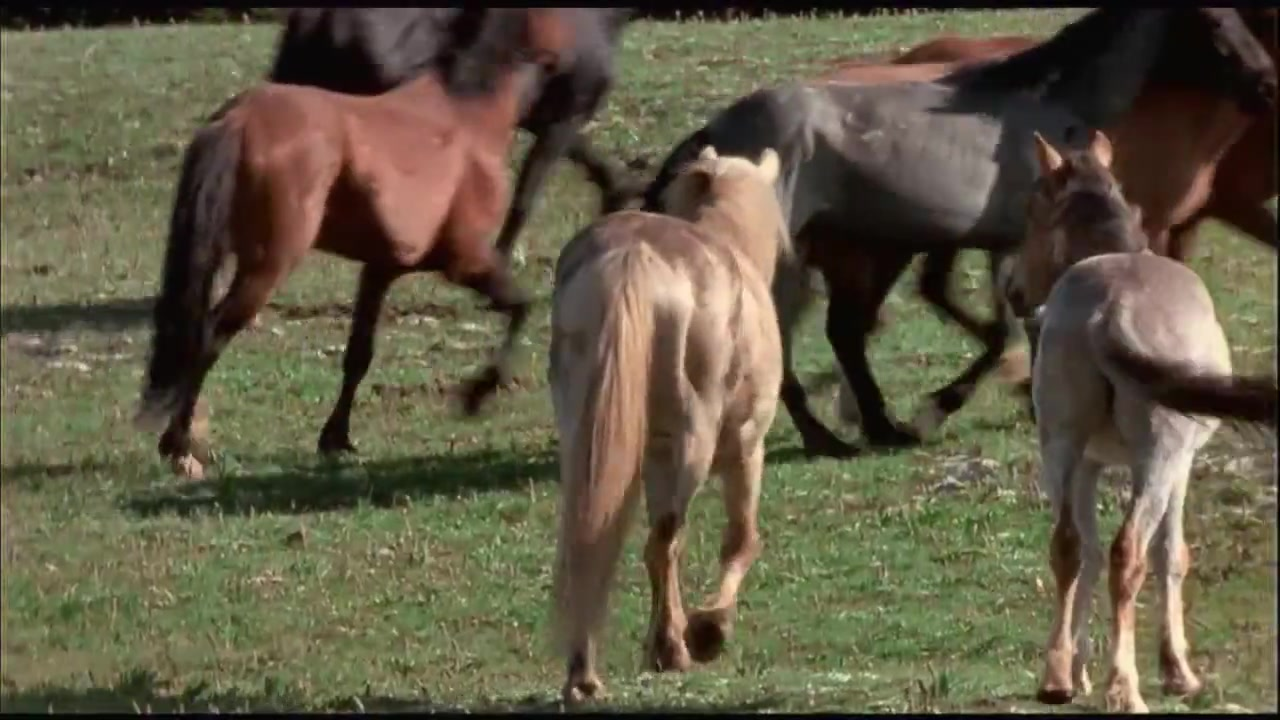horse: (545, 144, 797, 702)
